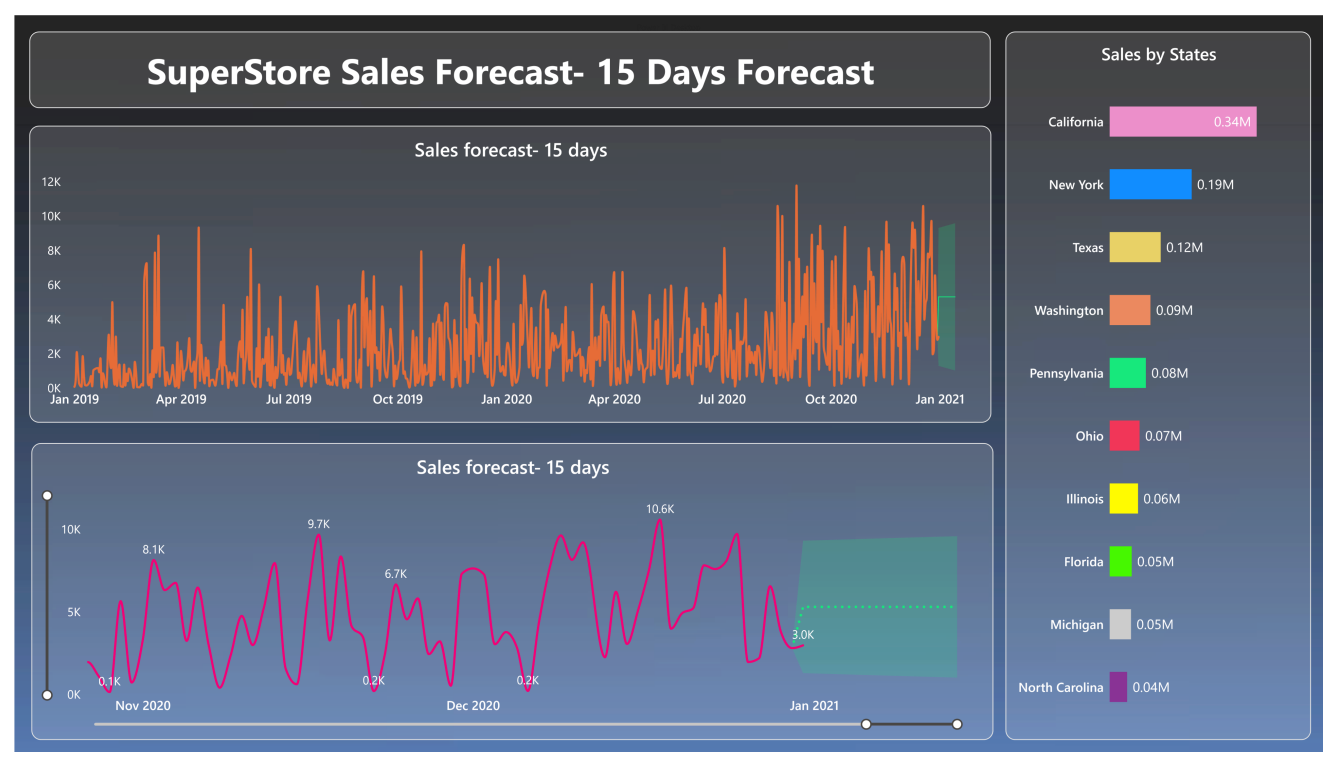

What the dashboard file says about the page in this screenshot:
{"tool":"powerbi","page":{"name":"Page 2","canvas":[1920,1080],"ordinal":1},"visuals":[{"type":"lineChart","title":"Sales forecast- 15 days","fields":{"Category":["SuperStore_Sales_Dataset.Order Date"],"Y":["Sum(SuperStore_Sales_Dataset.Sales)"]},"box":[22,162,1411,435],"z":0},{"type":"lineChart","title":"Sales forecast- 15 days","fields":{"Category":["SuperStore_Sales_Dataset.Order Date"],"Y":["Sum(SuperStore_Sales_Dataset.Sales)"]},"box":[25.2,627.4,1411.2,435.1],"z":1000},{"type":"textbox","title":"SuperStore Sales Forecast- 15 Days Forecast","box":[22,24,1410,112],"z":2000},{"type":"clusteredBarChart","title":"Sales by States","fields":{"Category":["SuperStore_Sales_Dataset.State"],"Y":["Sum(SuperStore_Sales_Dataset.Sales)"]},"box":[1454,24,448,1038],"z":3000}]}

Visuals, with their boxes in screenshot pixels (x1, y1, x2, y2), scaled from the page's 1920x1080 canvas onto the 1337x767 screenshot:
"Sales forecast- 15 days" lineChart: 15/115/998/424
"Sales forecast- 15 days" lineChart: 18/446/1000/755
"SuperStore Sales Forecast- 15 Days Forecast" textbox: 15/17/997/97
"Sales by States" clusteredBarChart: 1012/17/1324/754
